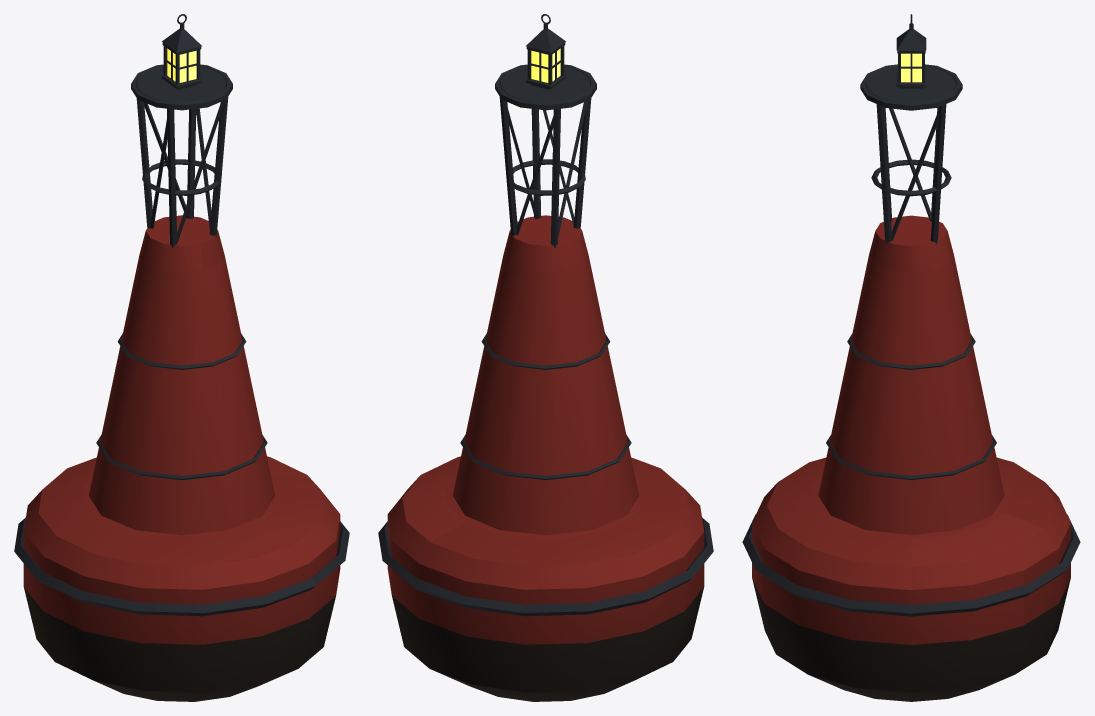
The model's file is sea_marker.glb.
3 renders of one model, left to right at view 1: azimuth 30°, elevation 25°; view 2: azimuth 150°, elevation 25°; view 3: azimuth 270°, elevation 25°, orthographic.
Parts seen in each view (by area): view 1: isl_sea_marker; view 2: isl_sea_marker; view 3: isl_sea_marker.
Boxes of the visible parts, x1=… form: isl_sea_marker: x1=14, y1=14, x2=349, y2=701; isl_sea_marker: x1=378, y1=14, x2=713, y2=701; isl_sea_marker: x1=742, y1=14, x2=1080, y2=701.
Size of the model in its own units: 3.18 by 6.72 by 3.18.
